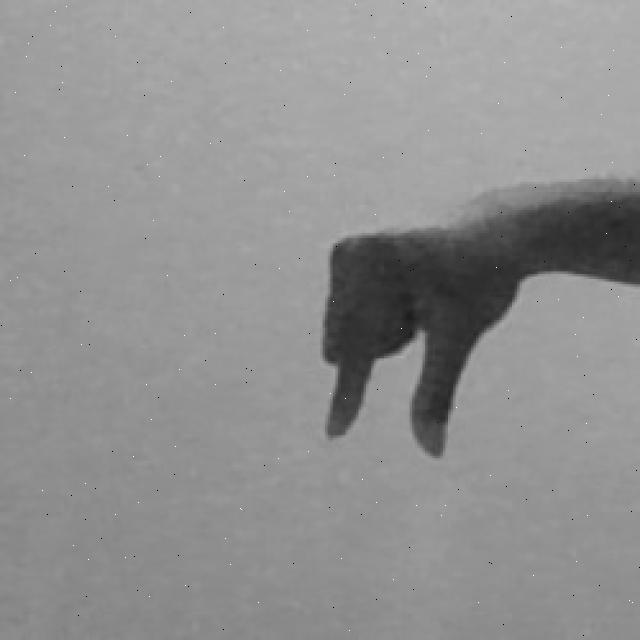Q: (312, 169, 640, 463)
